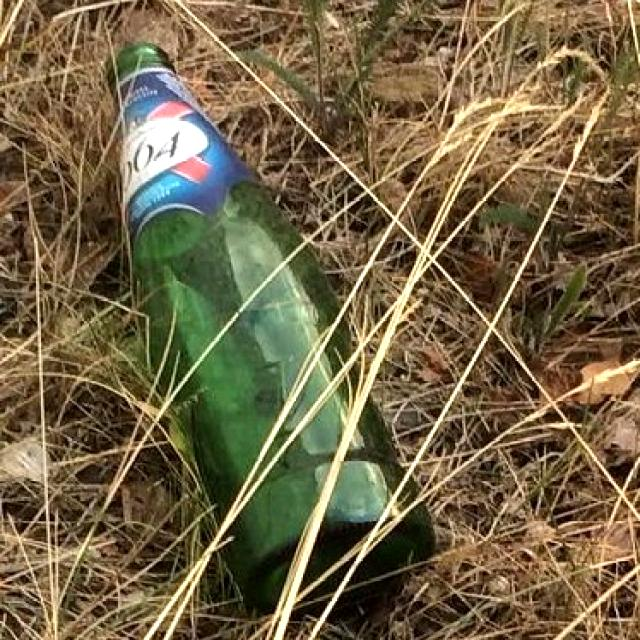Glass: (94, 31, 449, 632)
